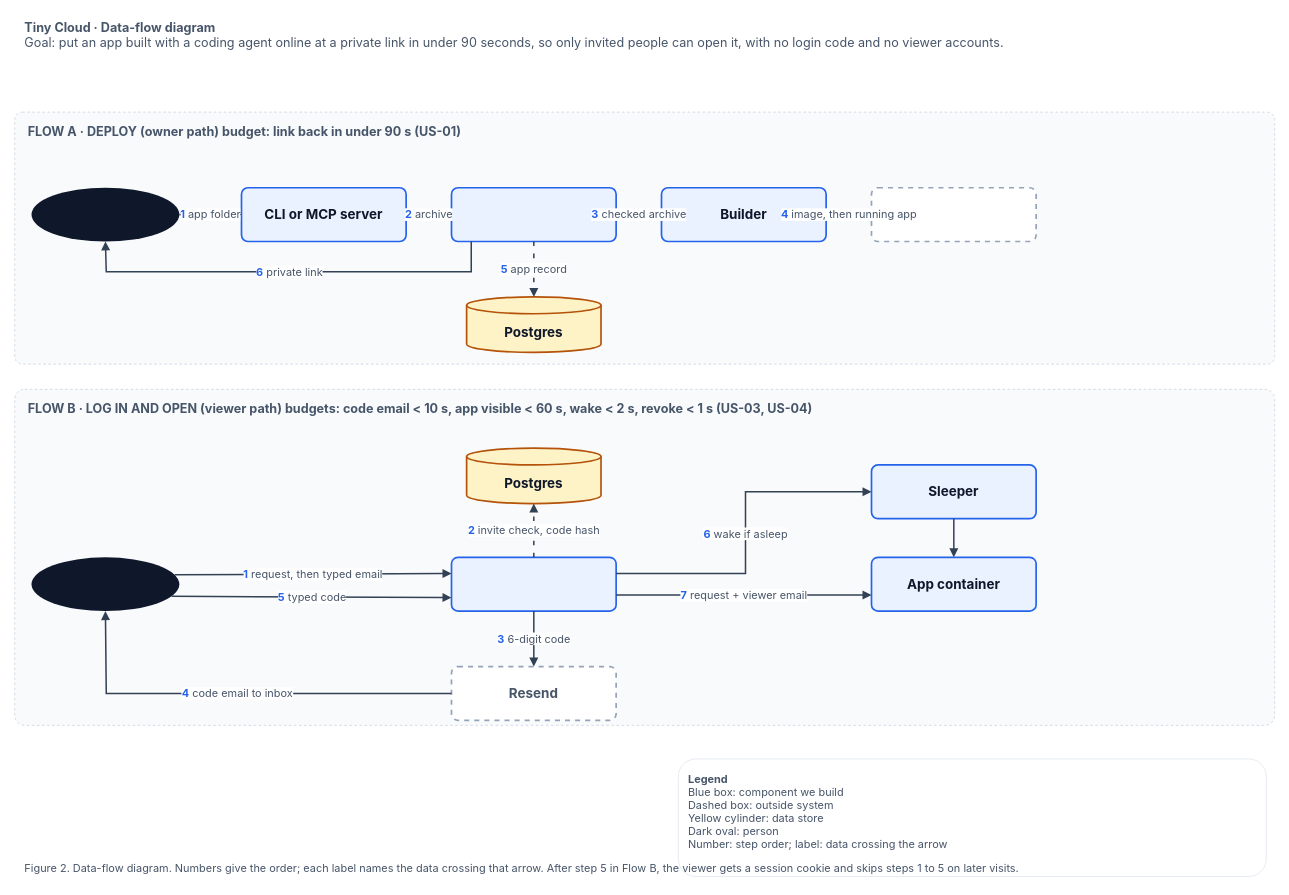
This 1289x895 diagram has some shape labels left out. The centre of each missing label's shape, as x and y in pixels:
Control API: the point at 533,214
Docker: the point at 953,214
Owner or agent: the point at 105,214
Router: the point at 533,584
Viewer: the point at 105,584
